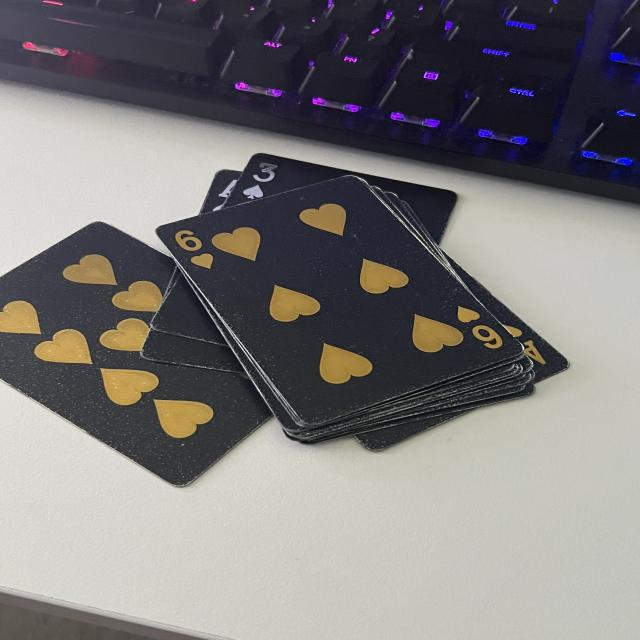3S: (241, 156, 283, 203)
6H: (448, 305, 511, 354), (166, 225, 219, 276)
